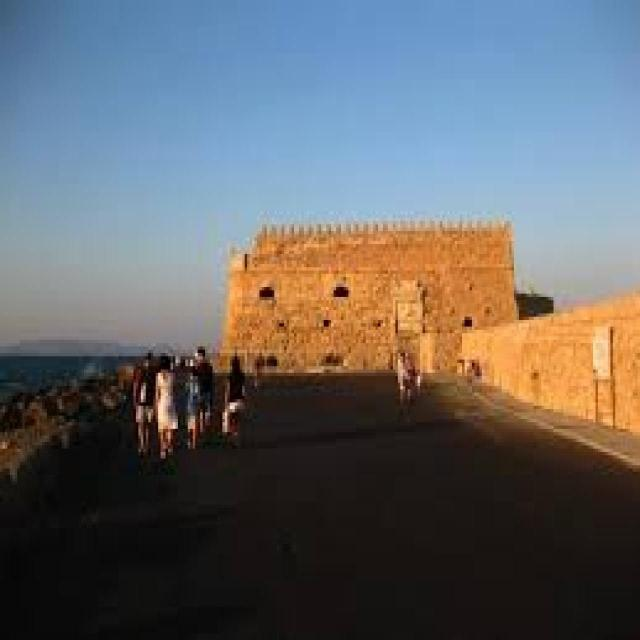Kules: (220, 219, 529, 394)
